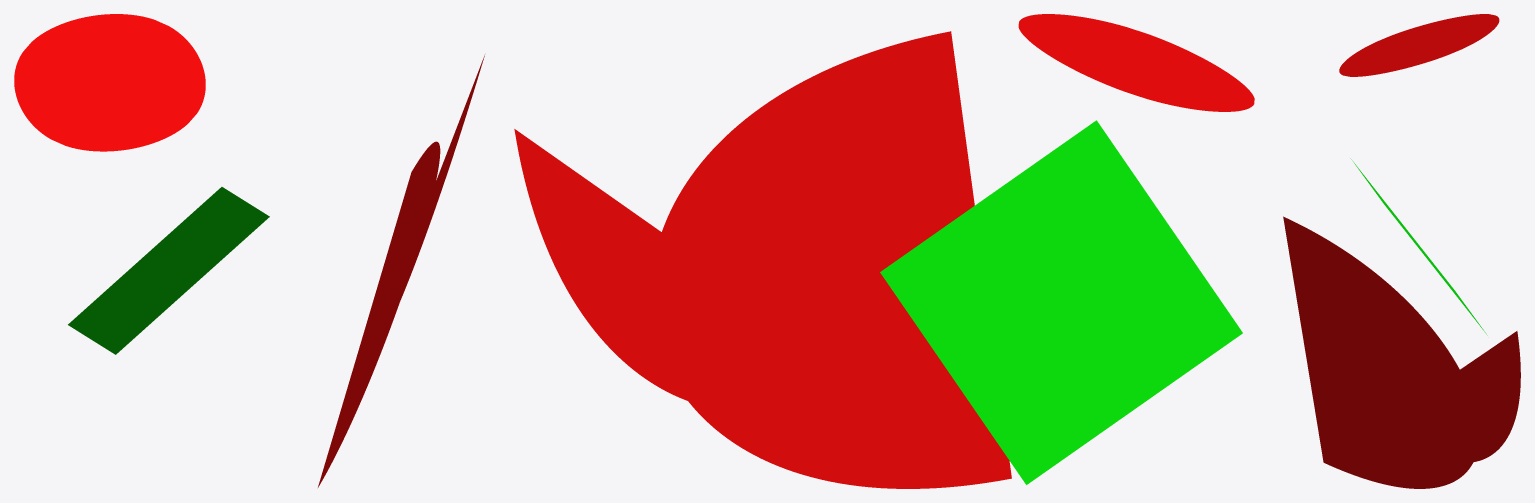
File: example.obj
3 renders of one model, left to right at view 1: azimuth 30°, elevation 25°; view 2: azimuth 150°, elevation 25°; view 3: azimuth 270°, elevation 25°, orthographic. The views are drawn at different scales.
Visible parts, largest first — view 1: red_filled_spline, green_square, red_filled_bezier; view 2: red_filled_bezier, green_square, red_filled_spline; view 3: red_filled_bezier, red_filled_spline, green_square.
Part boxes in pixels (<box>): red_filled_spline: <box>14,14,205,151</box>; green_square: <box>68,187,269,354</box>; red_filled_bezier: <box>318,55,484,487</box>; red_filled_bezier: <box>514,31,1011,488</box>; green_square: <box>880,120,1242,484</box>; red_filled_spline: <box>1018,14,1254,111</box>; red_filled_bezier: <box>1283,216,1520,488</box>; red_filled_spline: <box>1339,14,1499,76</box>; green_square: <box>1350,158,1487,335</box>.
Size of the model in its own units: 57.05 by 46.21 by 26.2.
